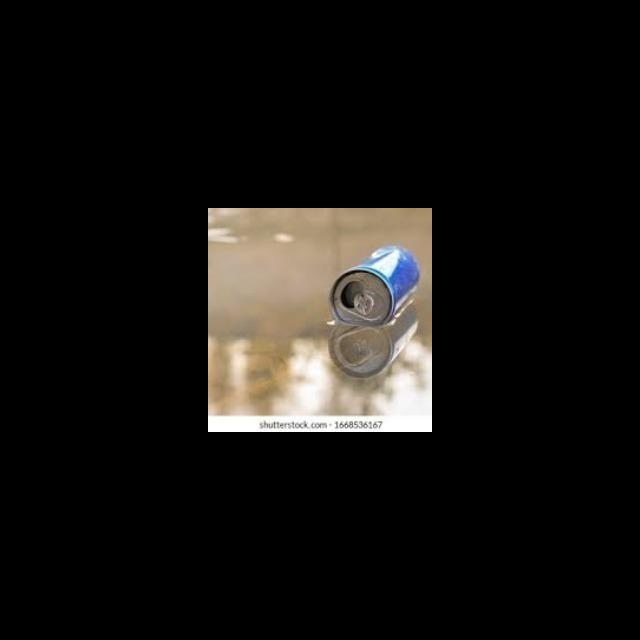metal: (326, 244, 424, 325)
